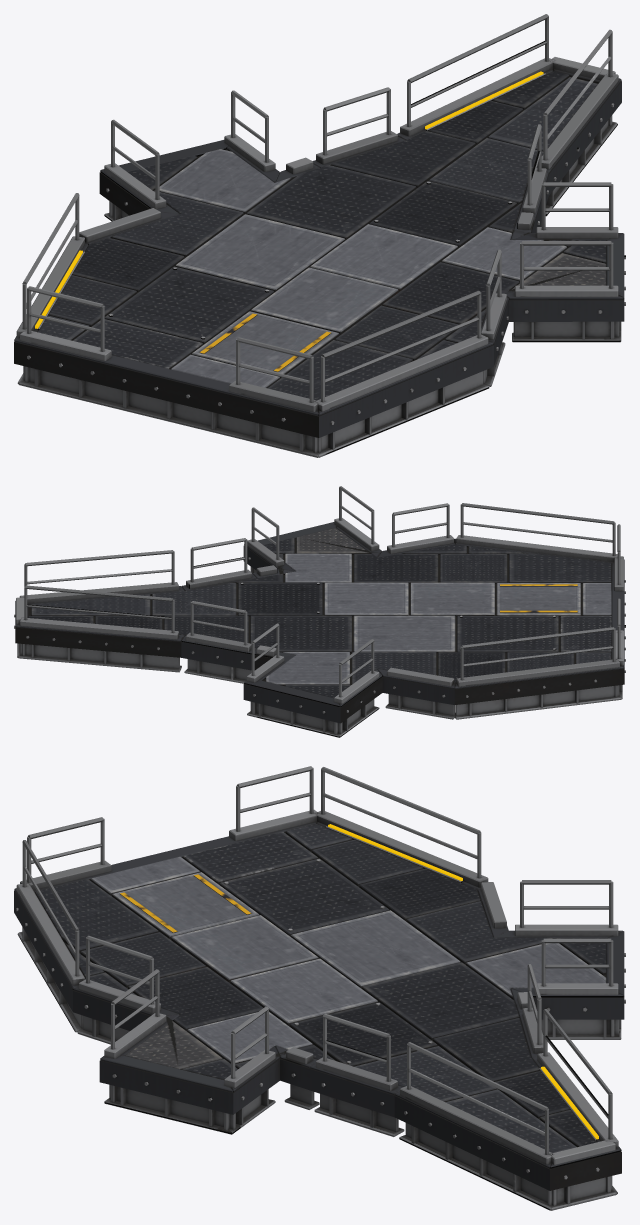
Rendered from nodexeus-set-deck-m2.glb.
The picture shows the model from 3 angles, top to bottom: view 1: azimuth 30°, elevation 25°; view 2: azimuth 150°, elevation 25°; view 3: azimuth 270°, elevation 25°; orthographic projection. The views are drawn at different scales.
Parts seen in each view (by area): view 1: set-deck-m2; view 2: set-deck-m2; view 3: set-deck-m2.
Boxes of the visible parts, x1,y1,x2,y2 form: set-deck-m2: (14, 14, 625, 457); set-deck-m2: (14, 486, 625, 737); set-deck-m2: (14, 766, 625, 1210).
Bounding box in the file's own units: 14.09 × 1.84 × 10.32.
Materials: 1 (1 with a texture image).
